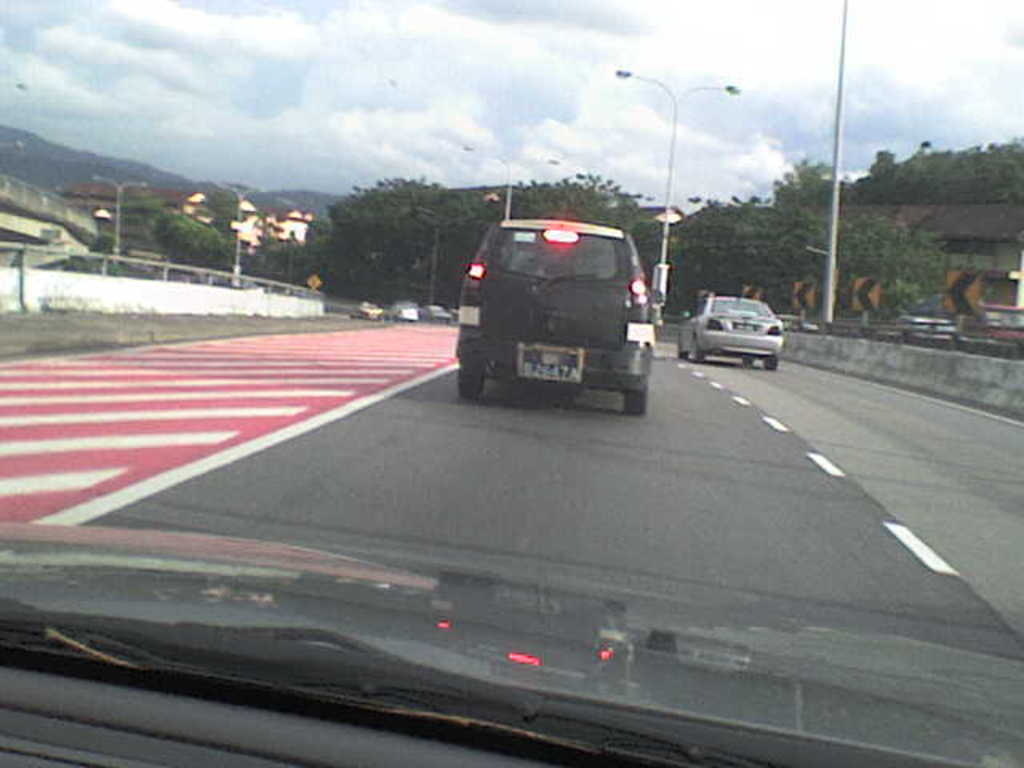Car: (0, 521, 1022, 766), (452, 219, 652, 414), (777, 299, 1022, 356), (675, 294, 782, 366), (345, 302, 446, 316)
